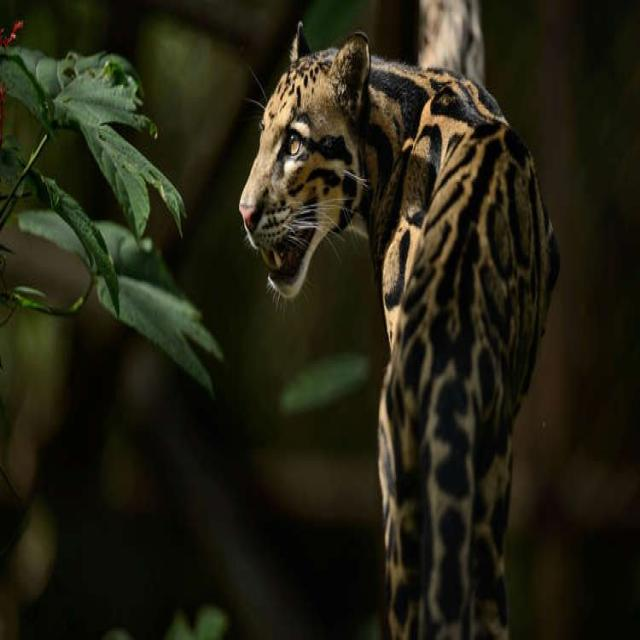Jaguar: (235, 12, 556, 640)
